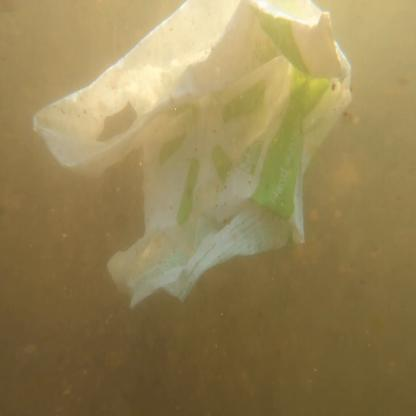Rác: (26, 0, 360, 300)
